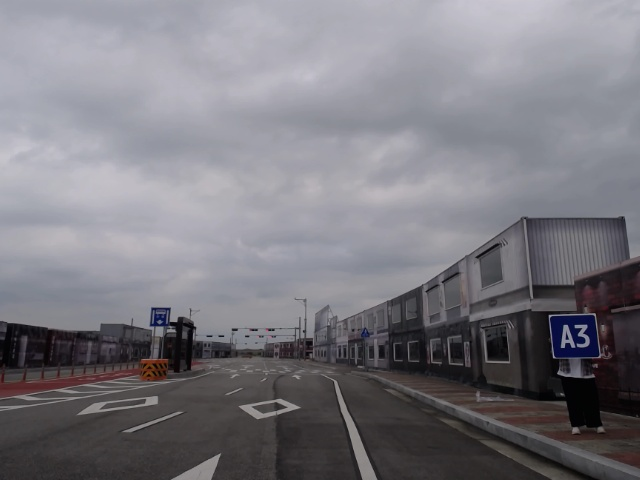delivery_a3: (549, 314, 601, 359)
